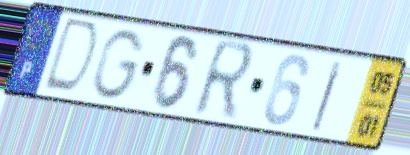6: (148, 33, 203, 113), (262, 52, 310, 128)
D: (38, 15, 103, 99)
G: (90, 27, 148, 102)
I: (308, 58, 347, 134)
R: (189, 36, 259, 125)
